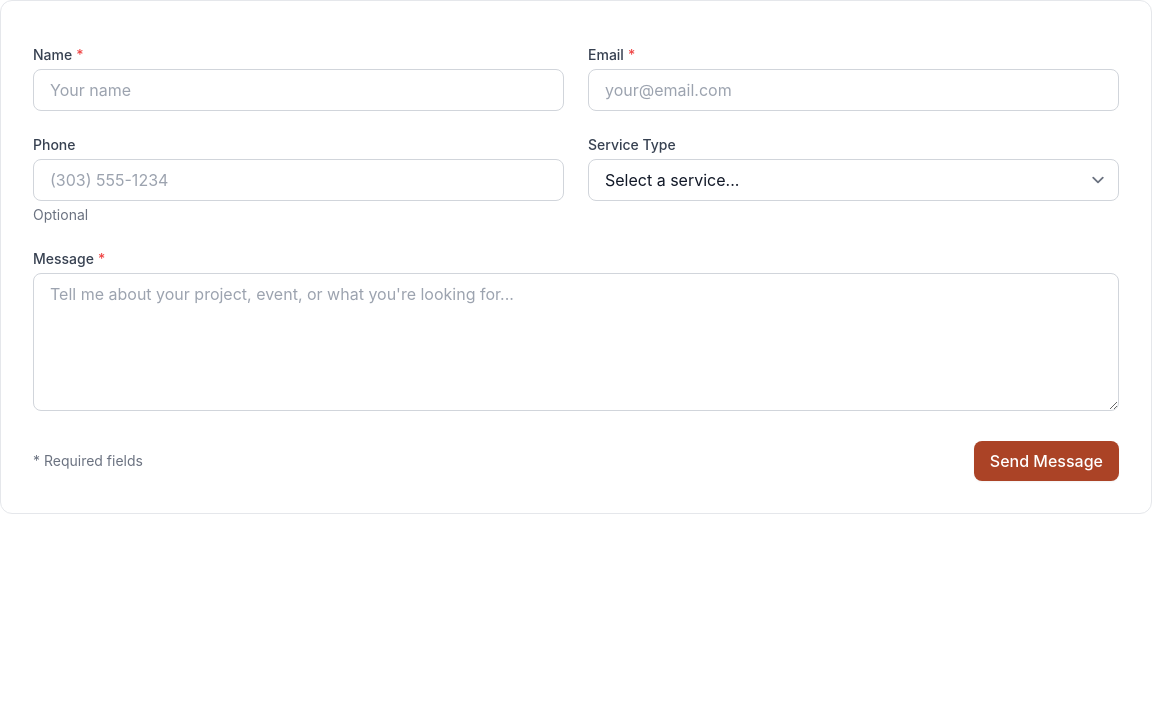
Scenario: ContactForm › form submission › shows success state after successful submission
Step 1. Type "John Doe" into the field labelled "Name*" → point(298, 90), box [33,69,564,111]
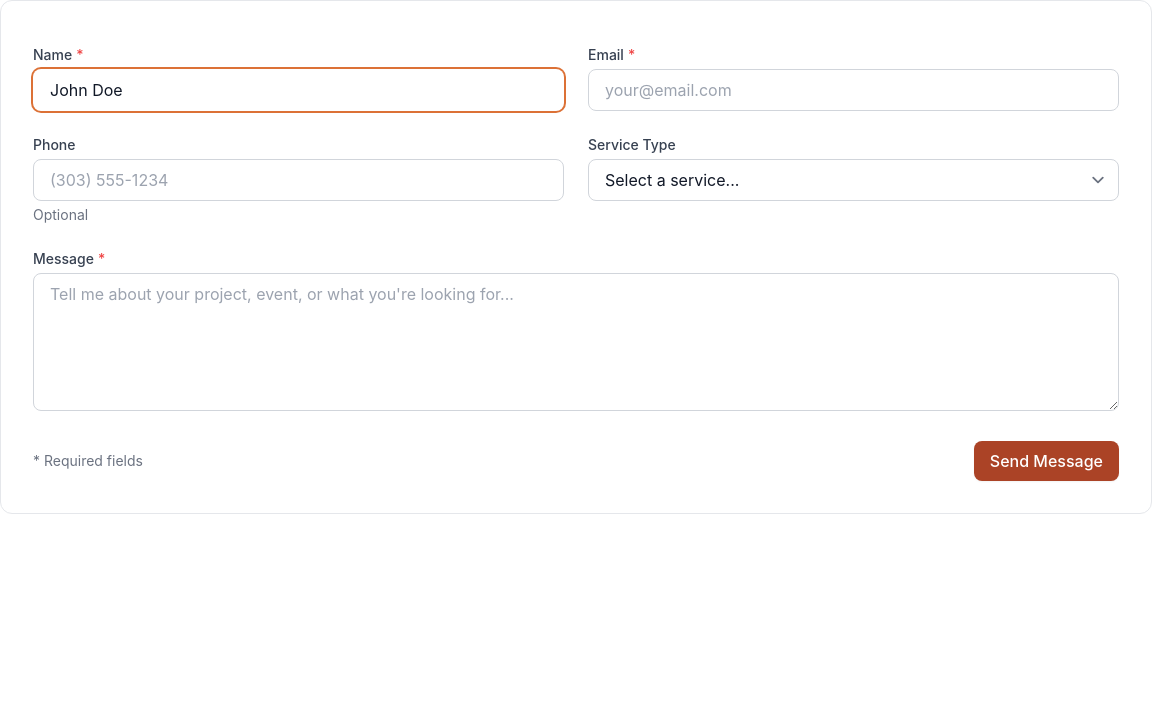
Step 2. Type "test@example.com" into the field labelled "Email*" → point(854, 90), box [588,69,1119,111]
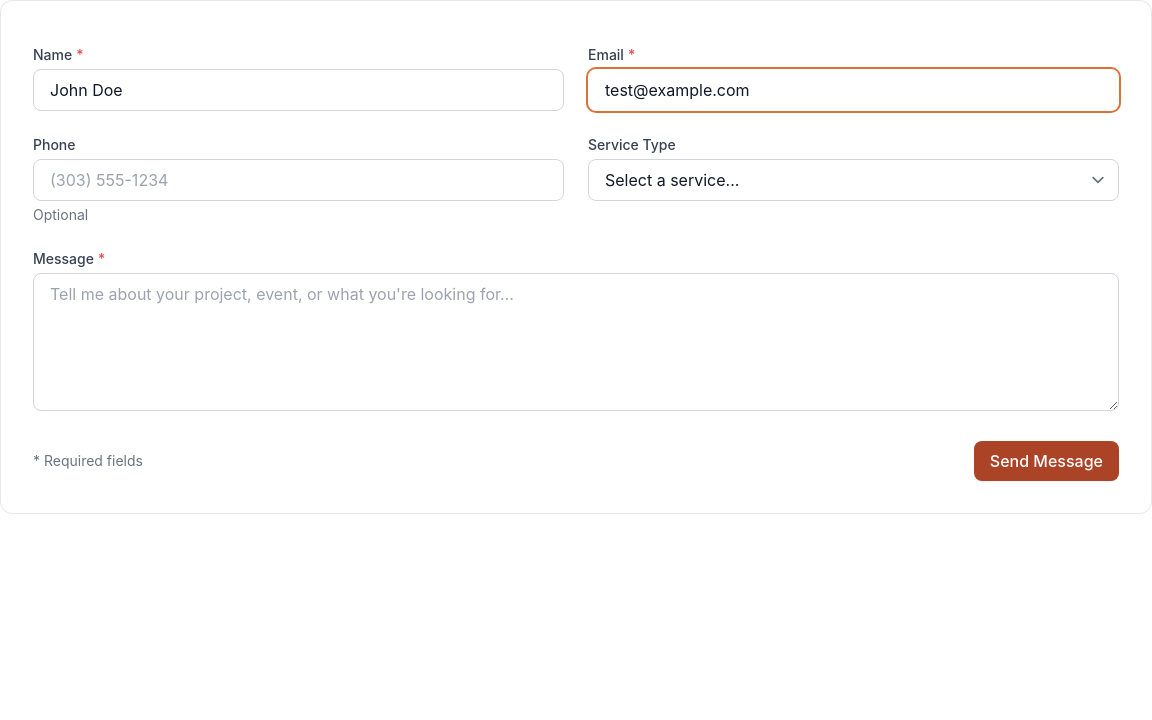
Step 3. Type "This is a test message for the form." into the text box labelled "Message*" → point(576, 342), box [33,273,1119,411]
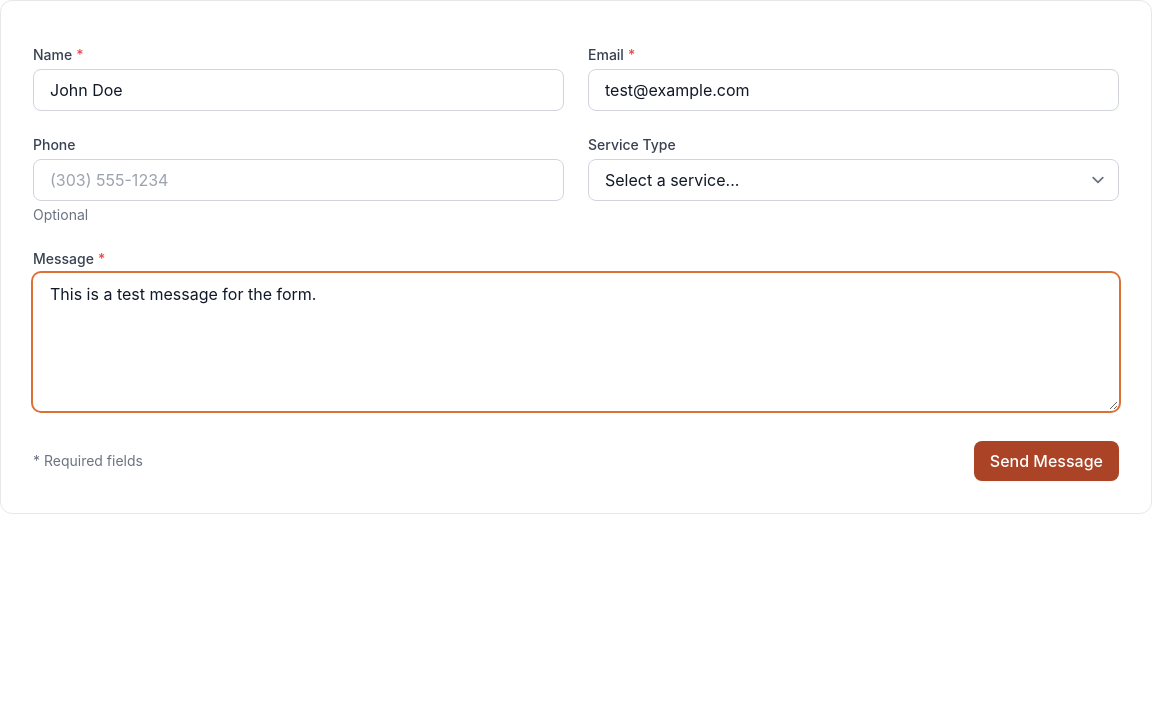
Step 4. Click the button "Send Message" → point(1046, 461), box [974,441,1119,481]
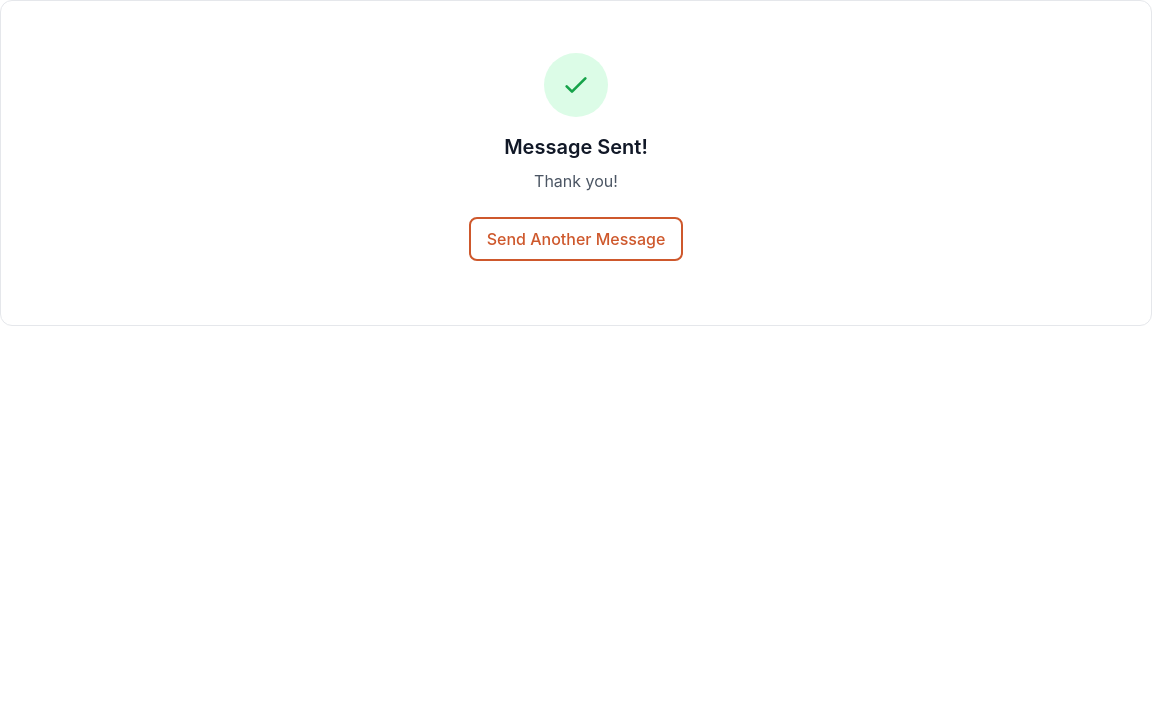
Expected: the heading "Message Sent!" is shown, [504,135,648,159]
